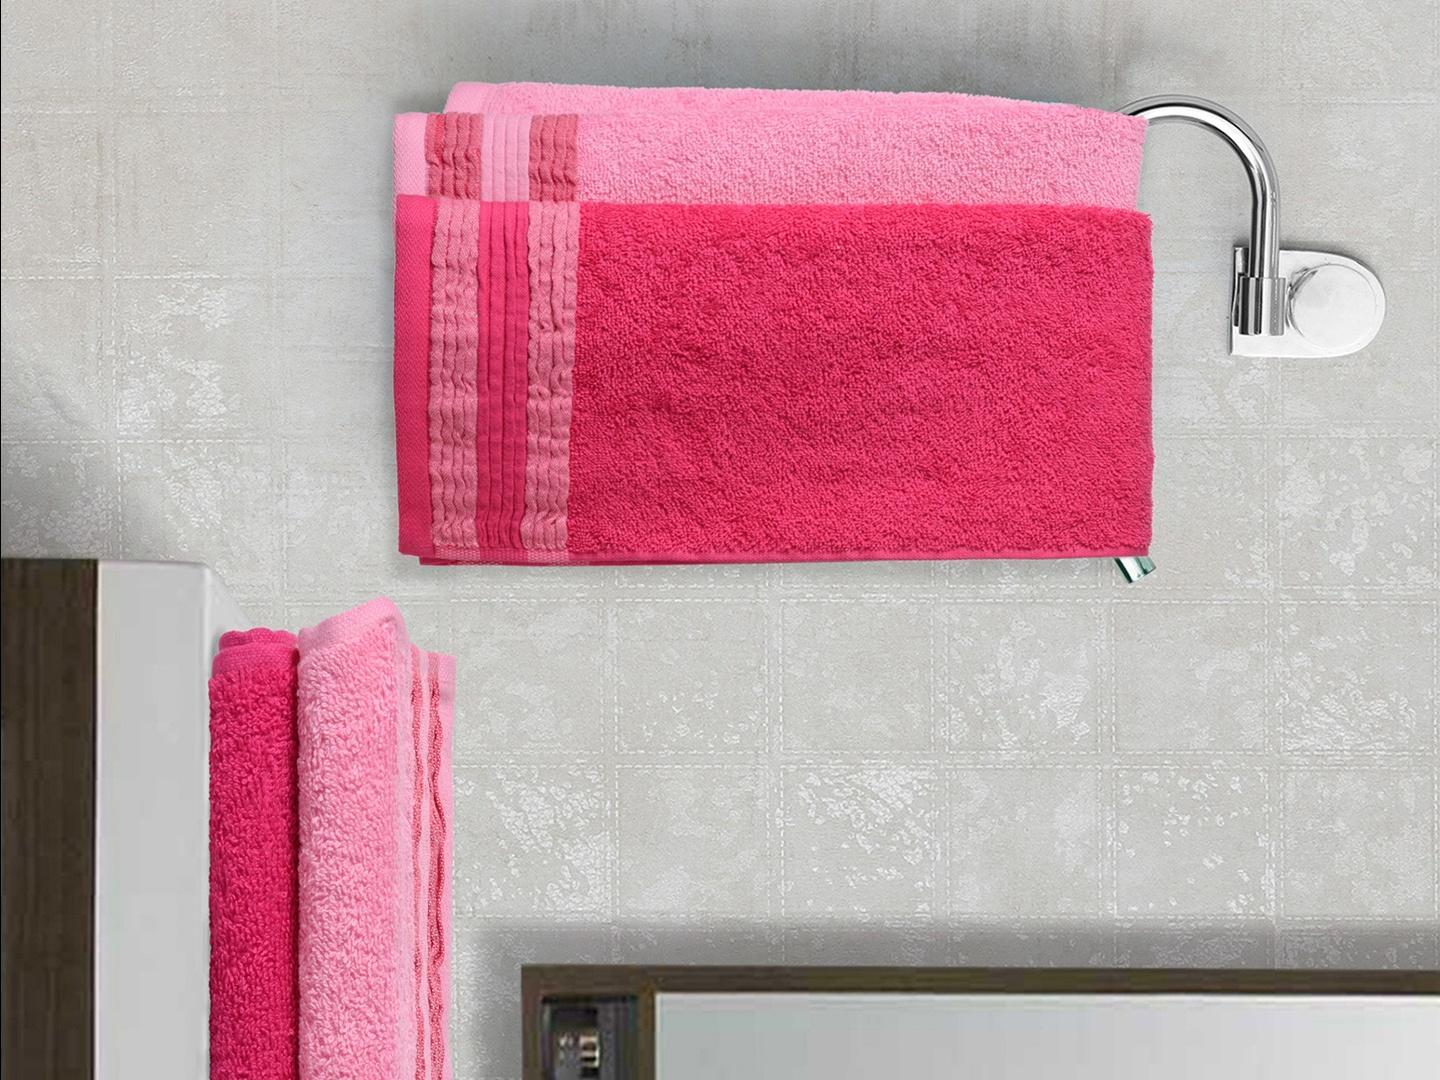towel: (350, 73, 1205, 585)
